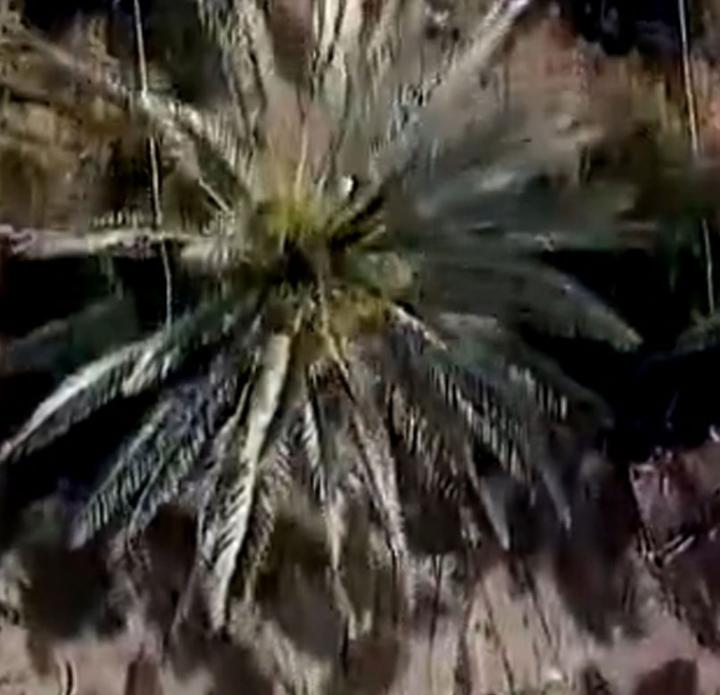Date-Palm-Crown: (148, 101, 445, 441)
